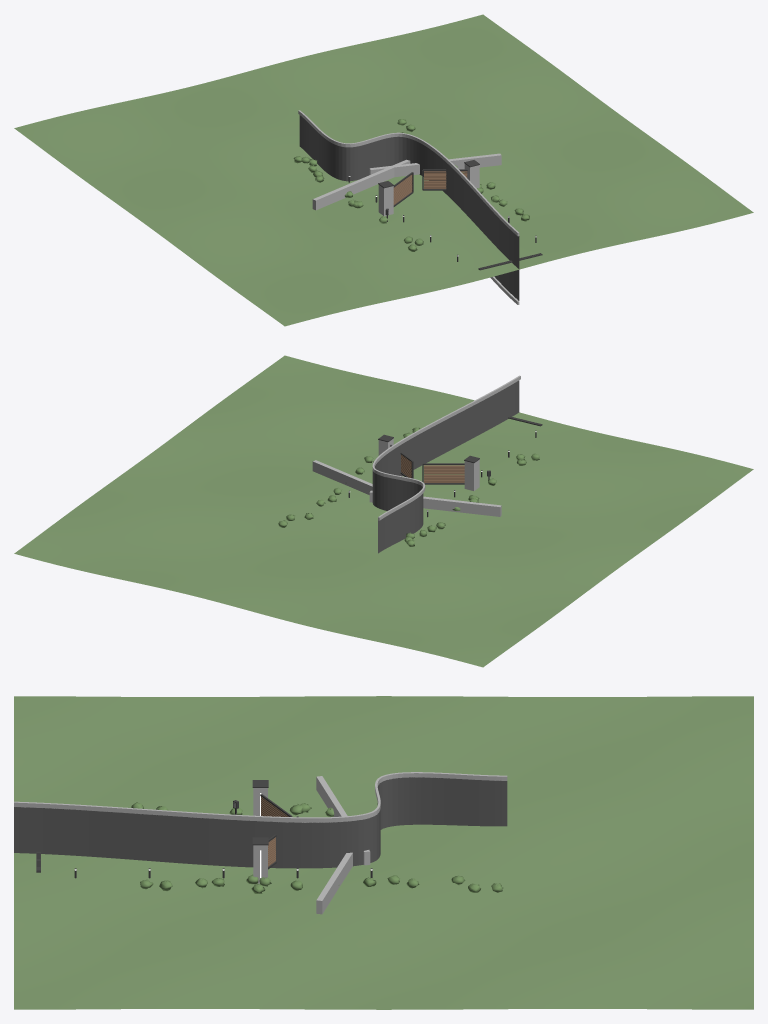
The model's file is driveway.gltf.
3 views of the same model, one above another, from view 1: azimuth 30°, elevation 25°; view 2: azimuth 150°, elevation 25°; view 3: azimuth 270°, elevation 25° (orthographic). The views are drawn at different scales.
Size of the model in its own units: 60 by 8.8 by 60.
